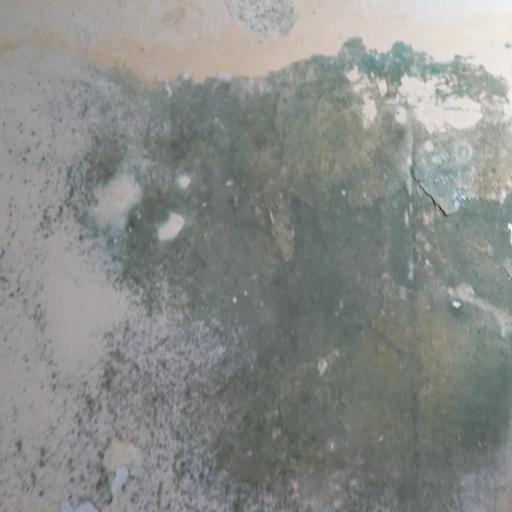algae: (83, 60, 512, 512)
